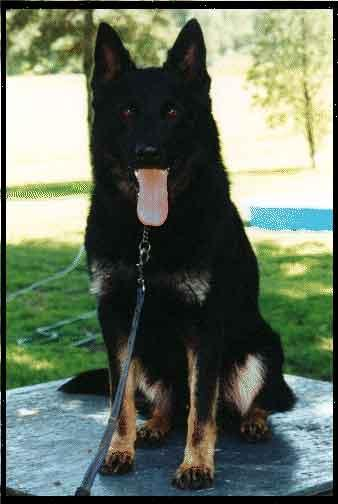German_shepherd: (55, 17, 298, 490)
